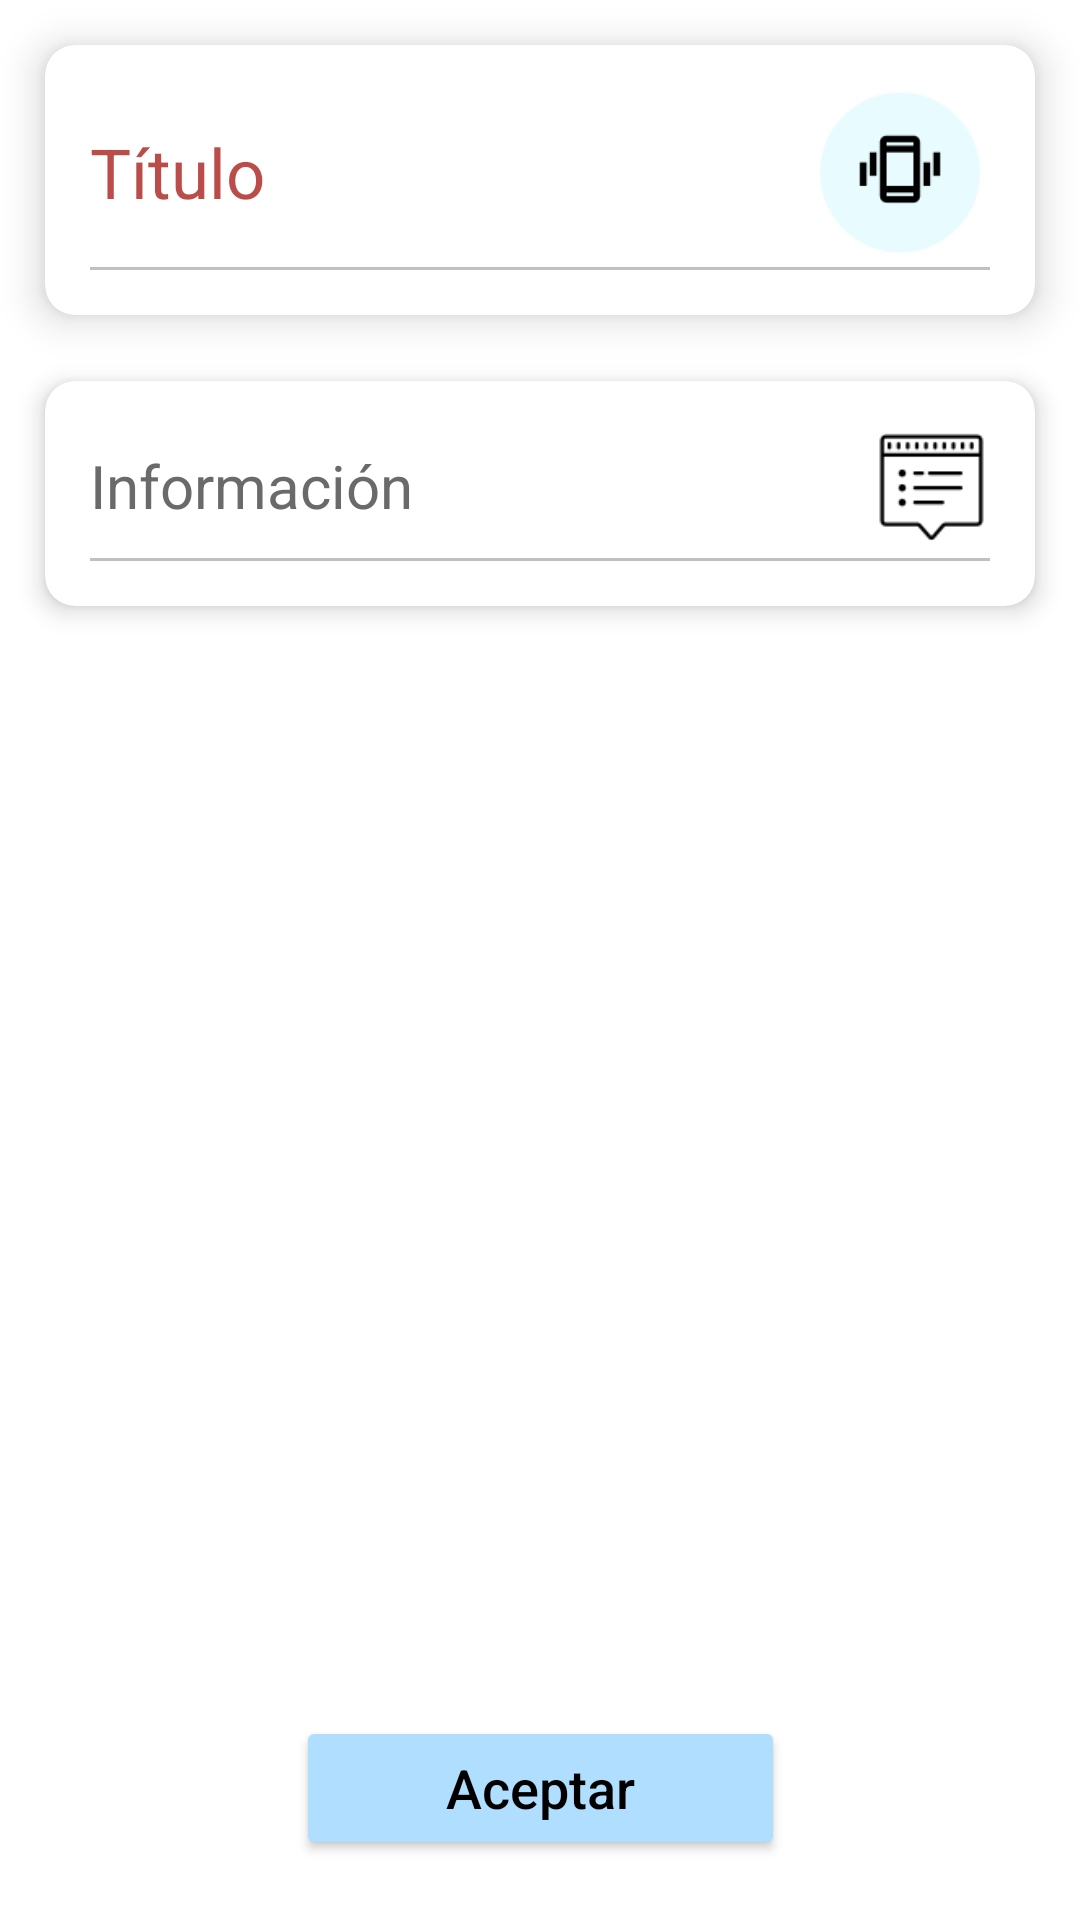

Locate icon controls on the screen. Image size 1080*1920, boxes as (x1, y1, x2, y2).
details: (879, 434, 984, 540)
